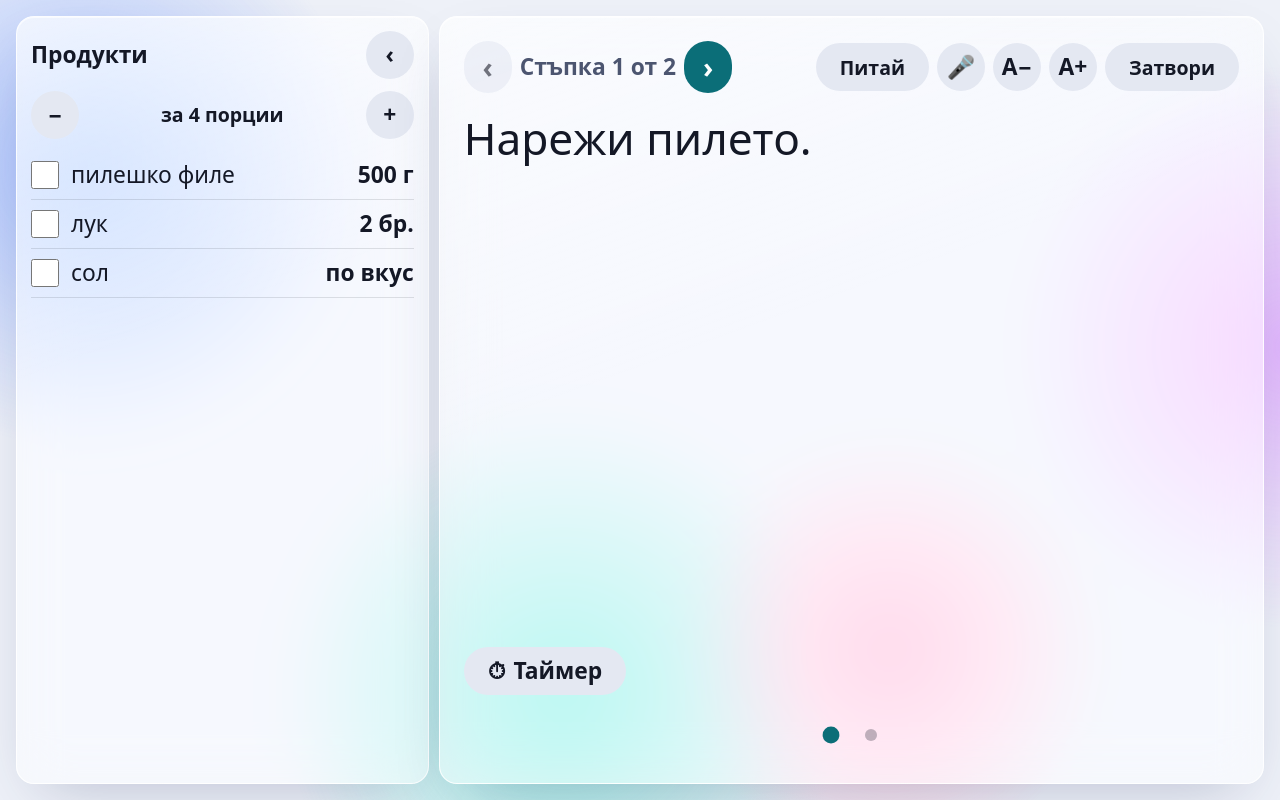
Test: Сигнал при изтичане на таймер › „Спри“ спира звука и маха банера и таймера
The width and height of the screenshot is (1280, 800).
Click the button named "Напред" at coordinates (708, 67), box left=684, top=41, right=732, bottom=93
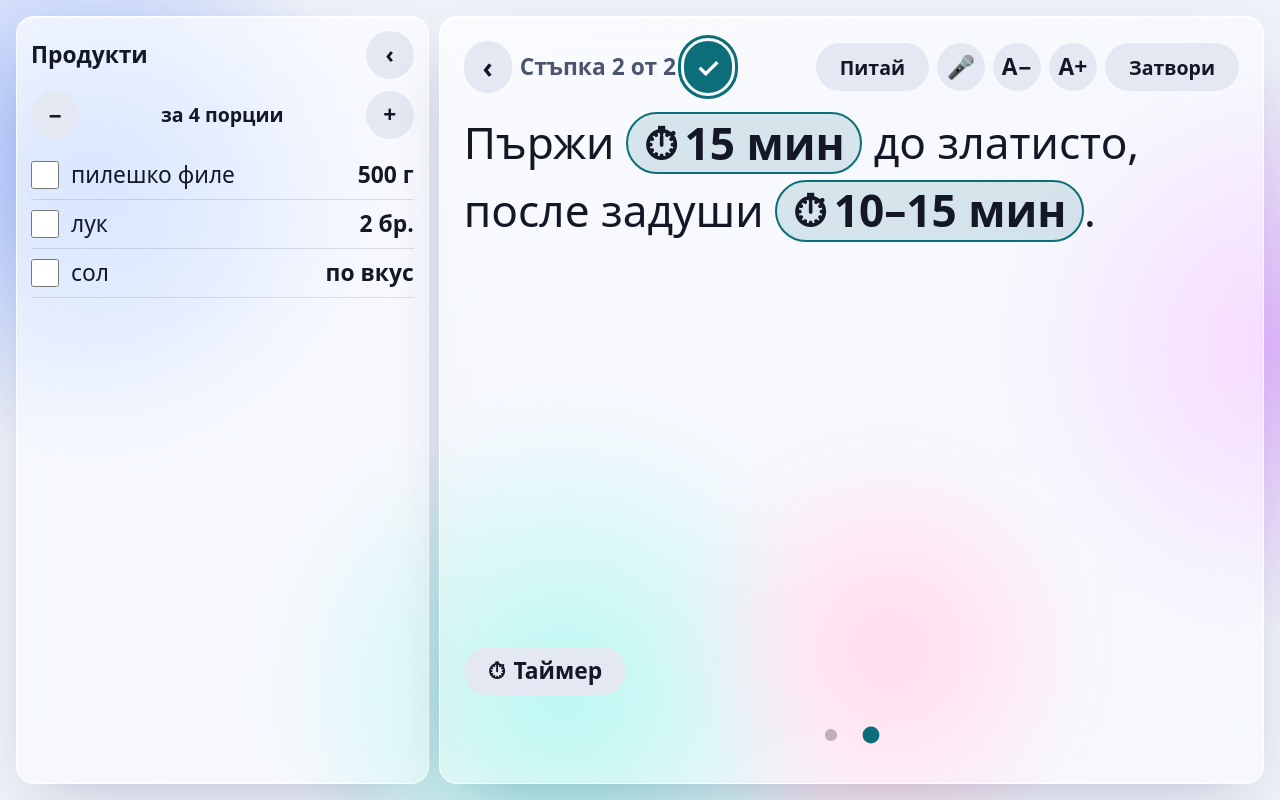
Click the button with aria-label "Таймер 15 мин" at coordinates (744, 143), box left=626, top=112, right=862, bottom=174
Wait 905000 ms
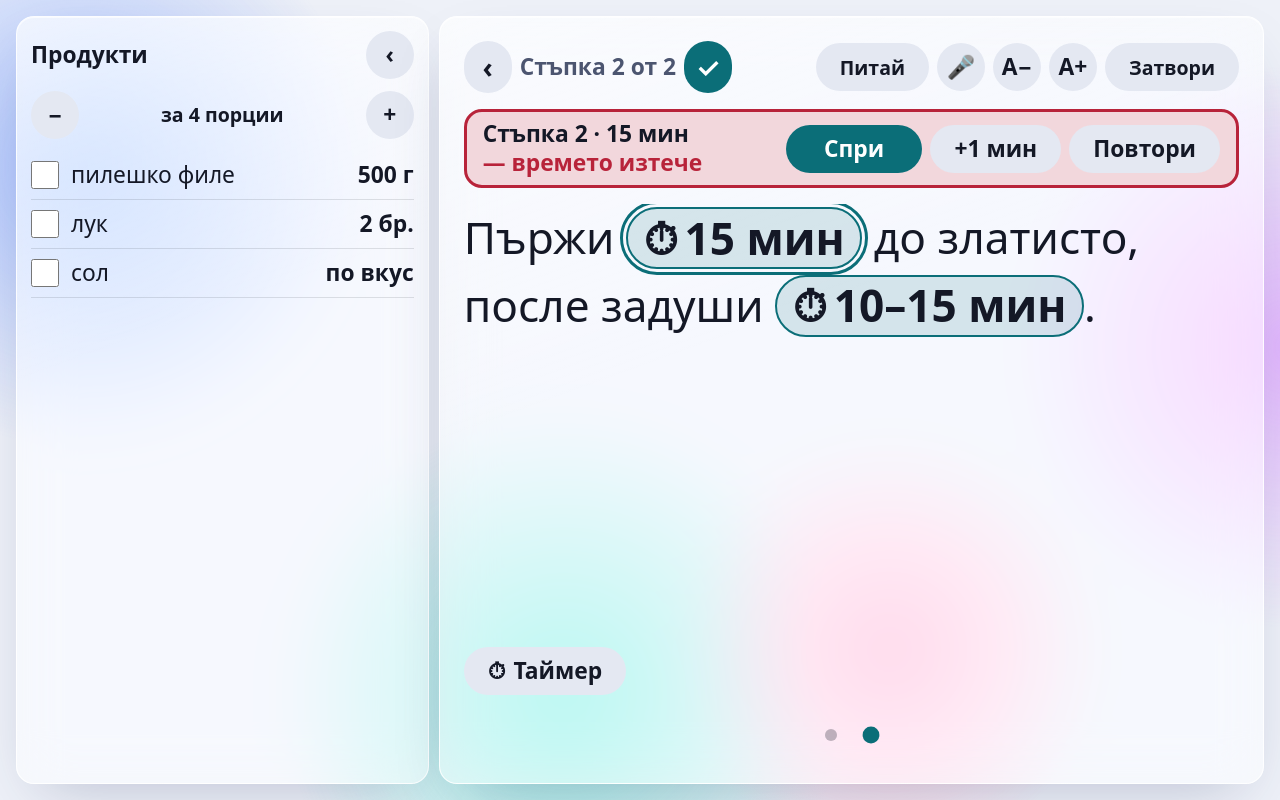
Click the button "Спри" at coordinates (854, 149), box left=786, top=125, right=922, bottom=173
Wait 5000 ms
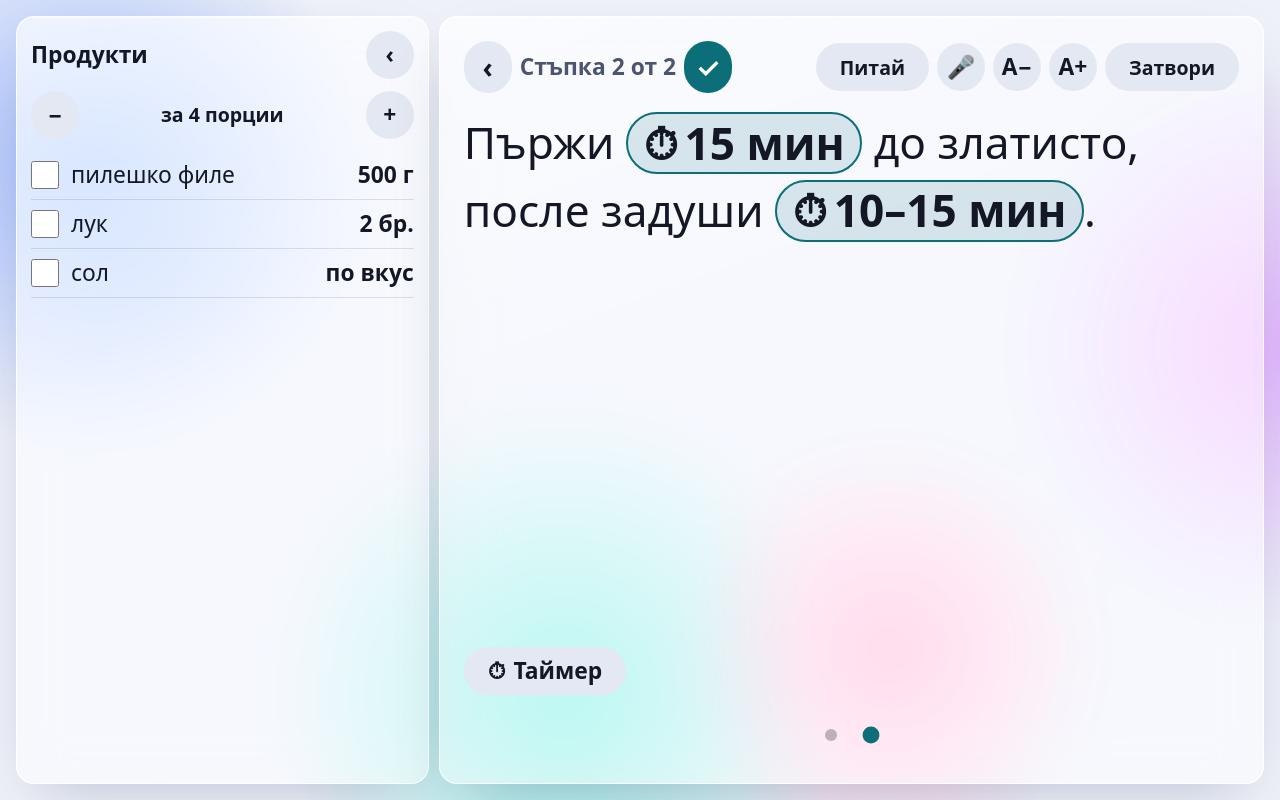
Now no messages are shown
